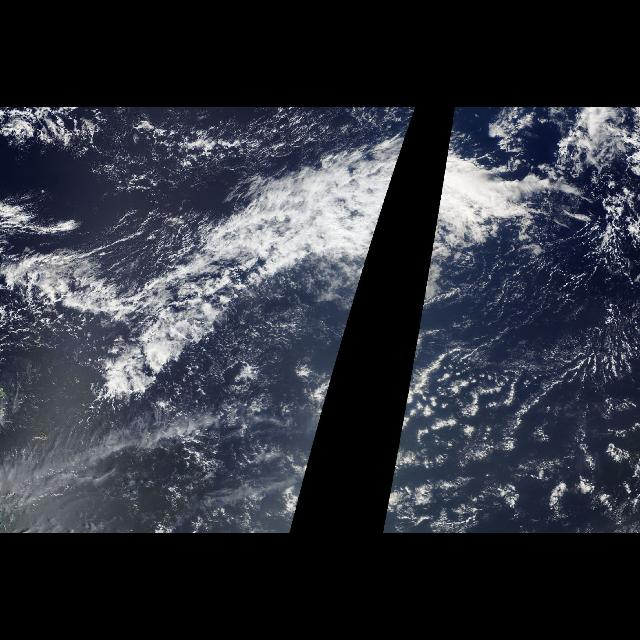Gravel: (495, 308, 637, 448), (105, 108, 332, 186), (5, 292, 140, 396)
Sugar: (232, 294, 356, 473), (6, 436, 122, 504)
